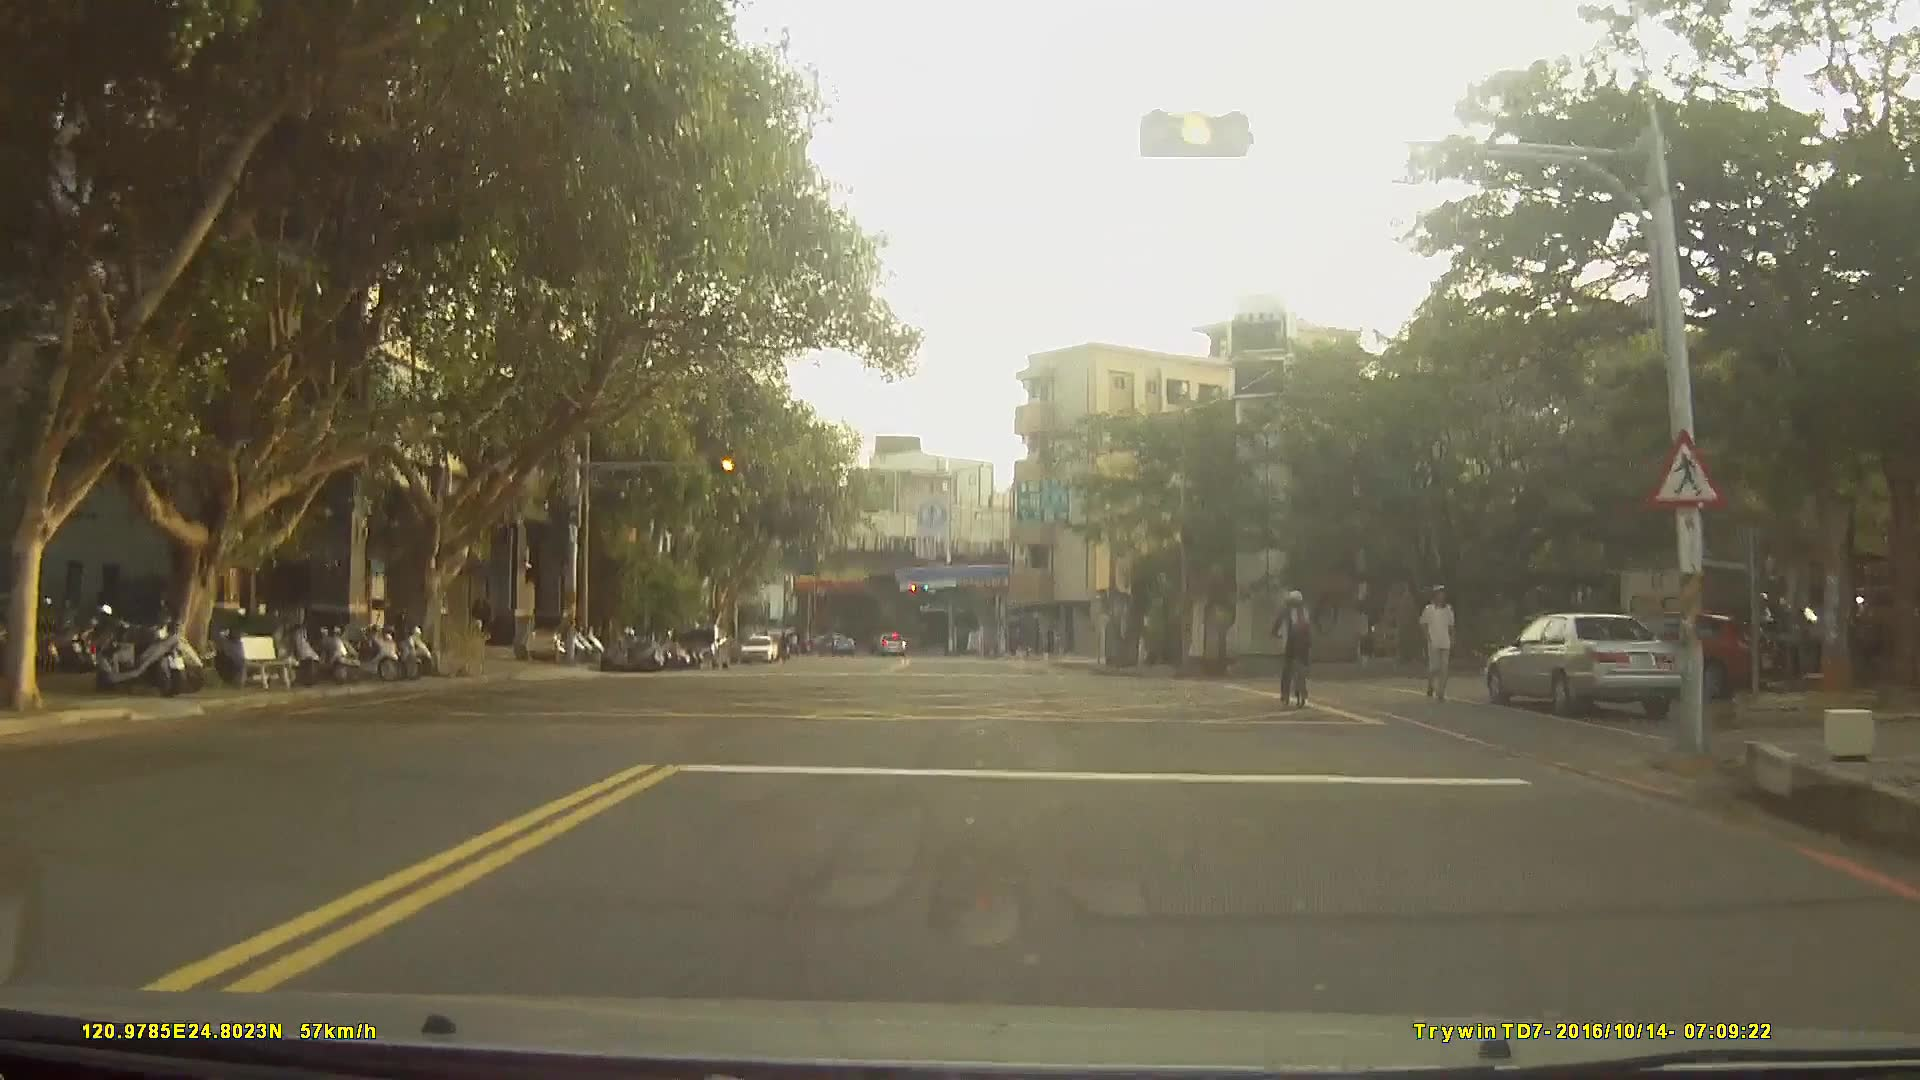pedestrian: (1412, 584, 1467, 699), (466, 597, 487, 649)
rider: (1272, 589, 1320, 707)
vehicle: (1483, 608, 1689, 715), (674, 623, 730, 671), (737, 633, 774, 665), (872, 633, 906, 659), (812, 634, 852, 657)
